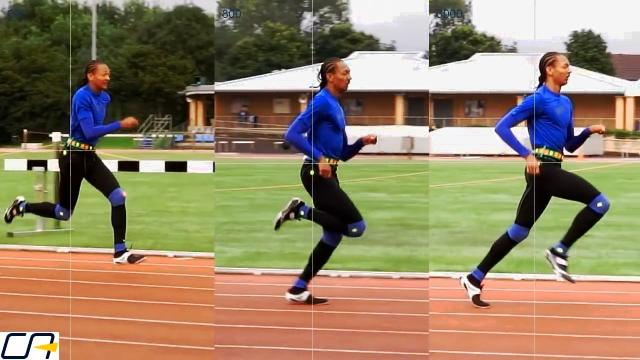berlari: (464, 54, 610, 306), (277, 61, 376, 304), (54, 62, 139, 264)
